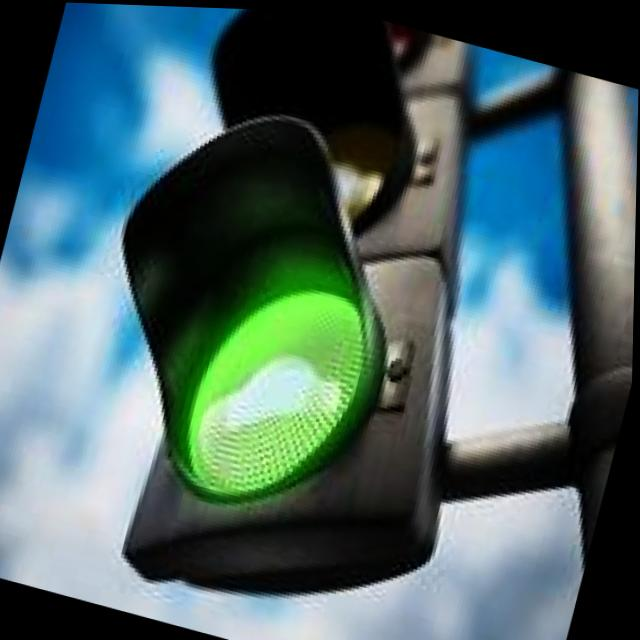green_light: (99, 163, 445, 550)
